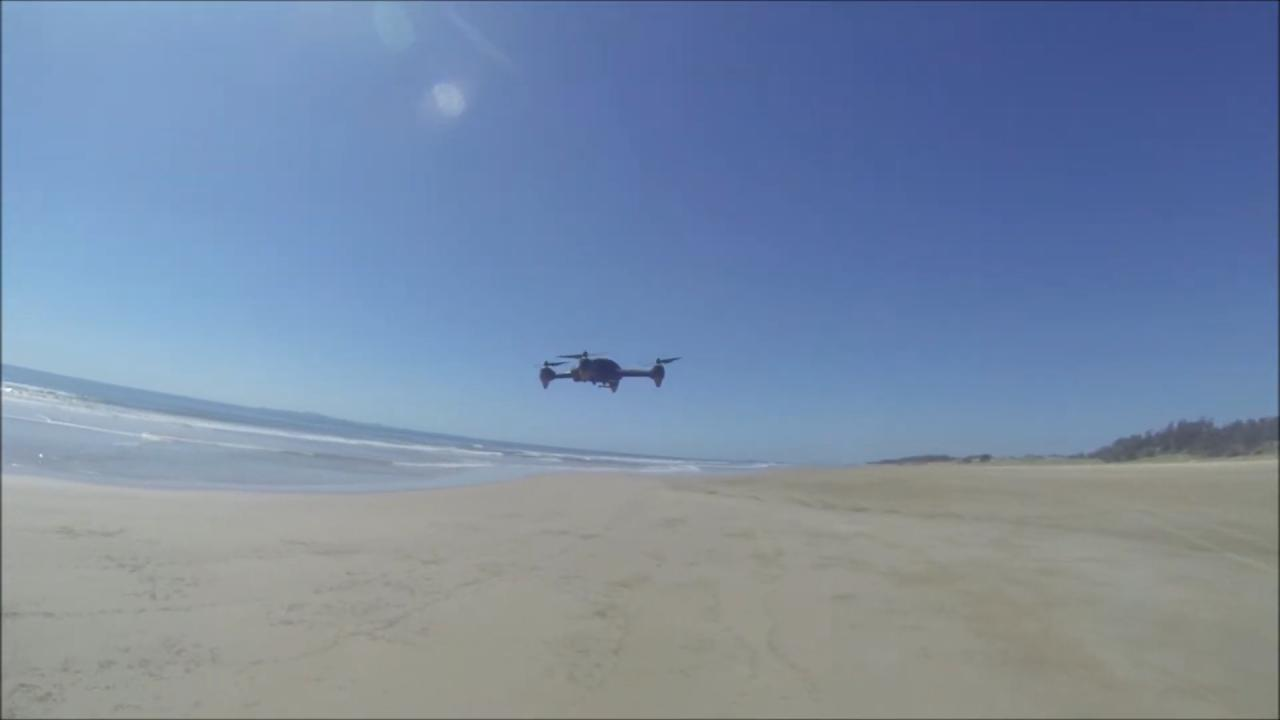Drone: (520, 340, 692, 401)
